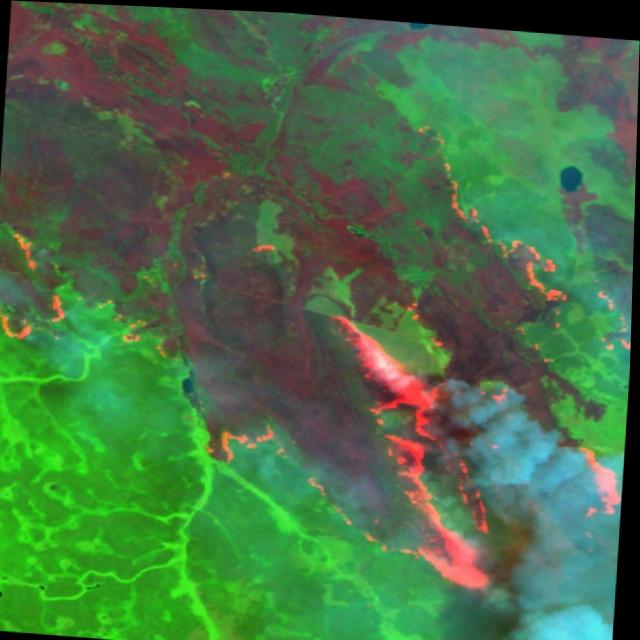fire: (180, 101, 638, 597), (0, 220, 89, 350)
